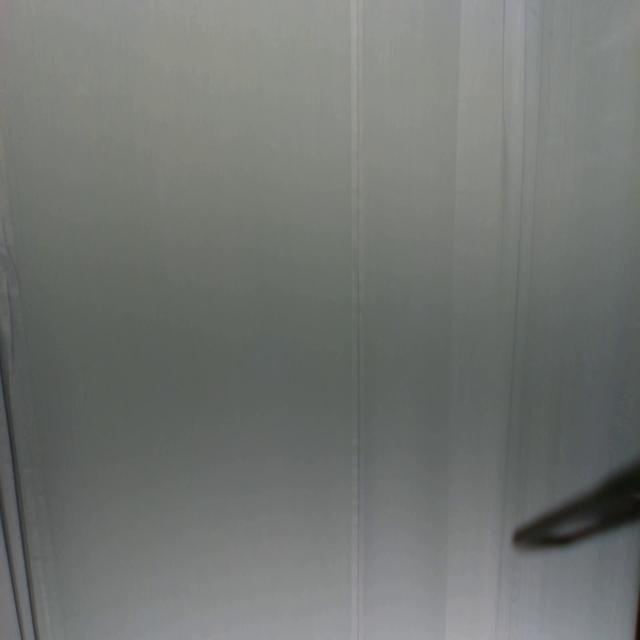crease: (504, 0, 530, 514), (0, 328, 42, 640), (349, 1, 366, 640), (529, 0, 548, 272), (496, 0, 512, 164), (494, 518, 506, 634)
